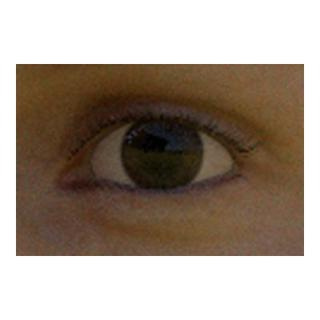pupil: (141, 133, 180, 171)
